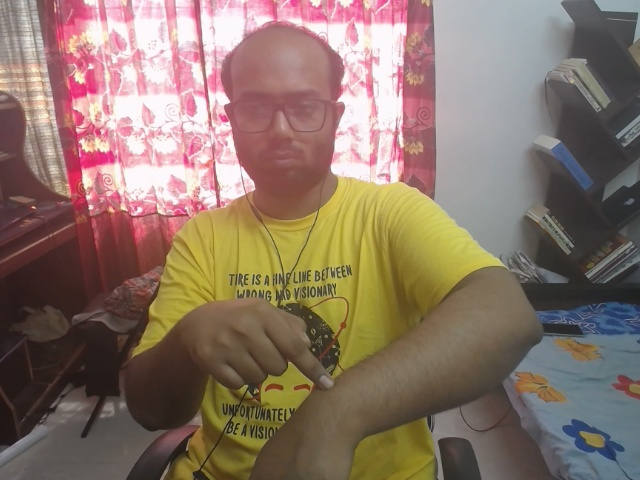time: (105, 260, 431, 480)
